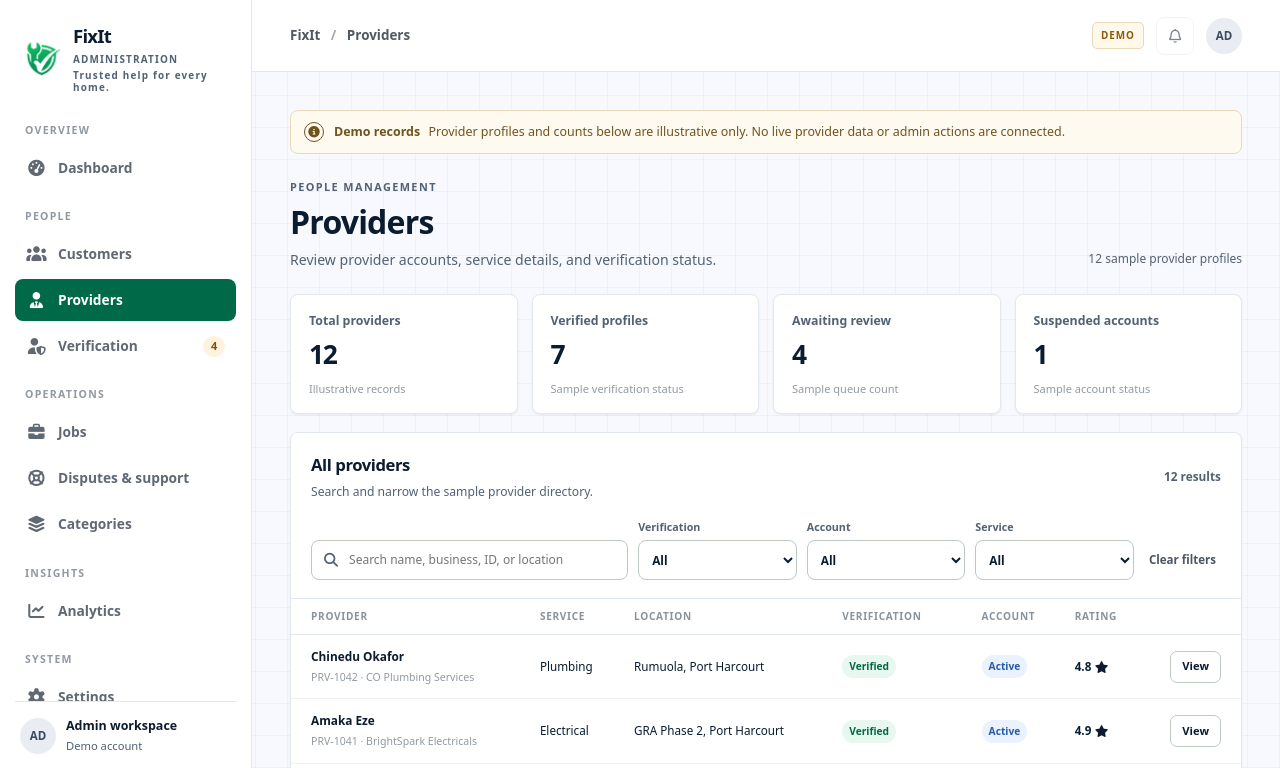
Test case: FixIt admin workspace › filters providers by search and can clear the filter
Type "Amaka" into the search field named "Search providers" at (482, 560), box top-left (347, 550), bottom-right (616, 570)
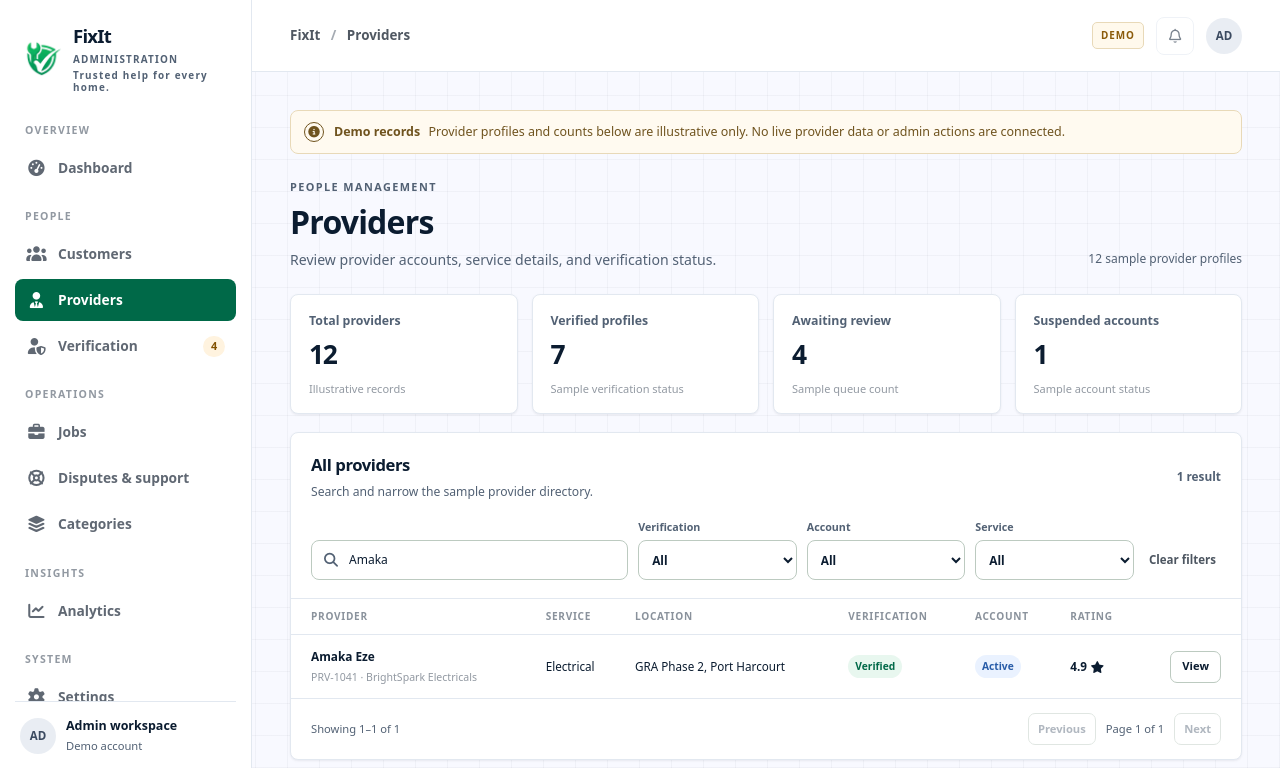
Expected: the text "Amaka Eze" is shown, top-left (311, 648), bottom-right (375, 664)
Expected: the text "Chinedu Okafor" is gone
Click the button "Clear filters" at (1182, 560), box top-left (1144, 540), bottom-right (1221, 580)
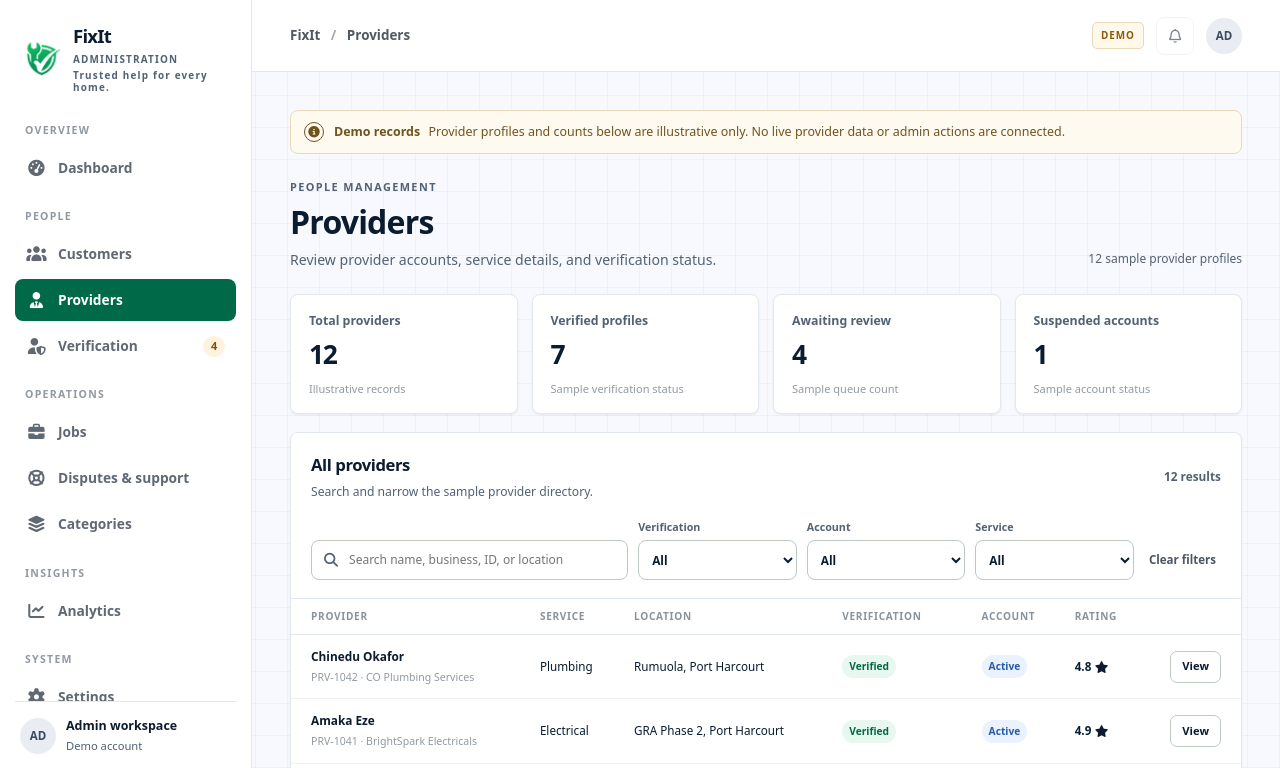
Expected: the text "Chinedu Okafor" is shown, top-left (311, 648), bottom-right (404, 664)
